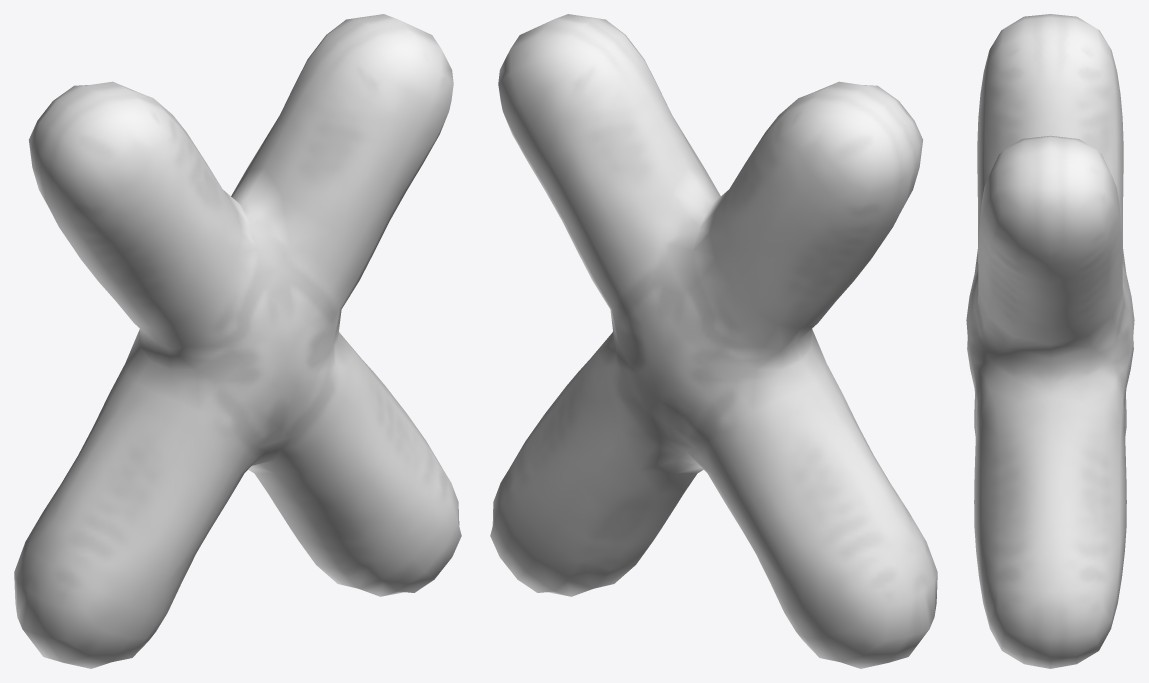
File: LettersBalloon01_X.FBX
3 renders of one model, left to right at view 1: azimuth 30°, elevation 25°; view 2: azimuth 150°, elevation 25°; view 3: azimuth 270°, elevation 25°, orthographic. The views are drawn at different scales.
Visible parts, largest first — view 1: LettersBalloon01_X; view 2: LettersBalloon01_X; view 3: LettersBalloon01_X.
Boxes of the visible parts, <box> form: LettersBalloon01_X: <box>14,14,461,668</box>; LettersBalloon01_X: <box>490,14,937,668</box>; LettersBalloon01_X: <box>966,14,1134,668</box>.
Size of what is drawn, in the model's own units: 0.3858 by 0.4869 by 0.1436.
